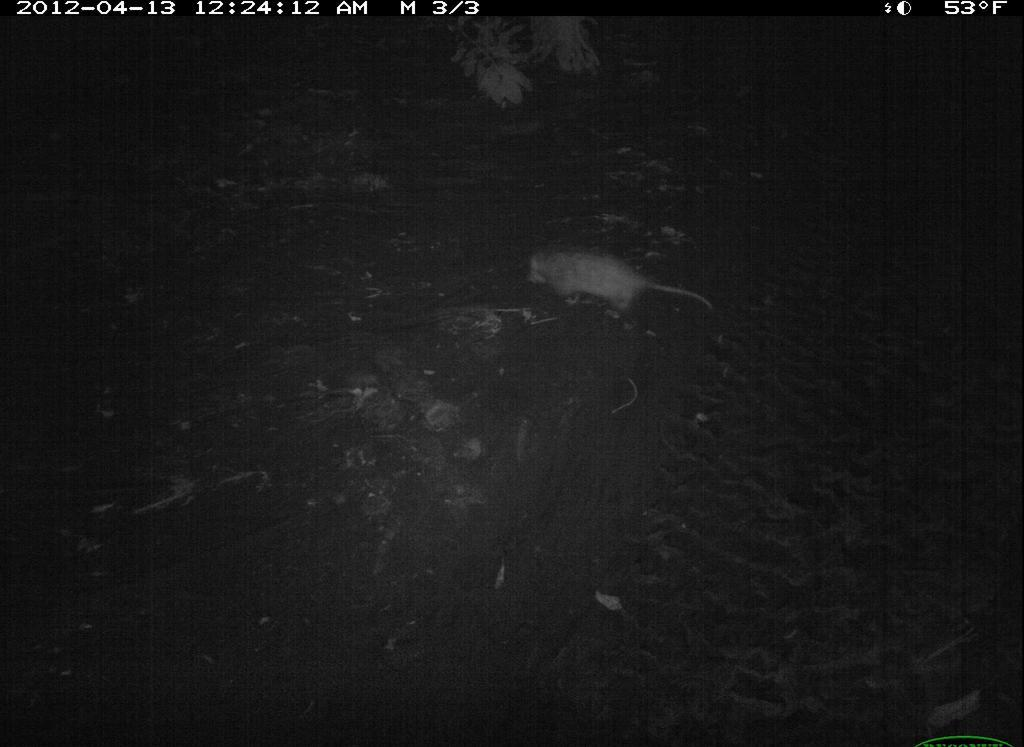opossum: (515, 235, 721, 335)
